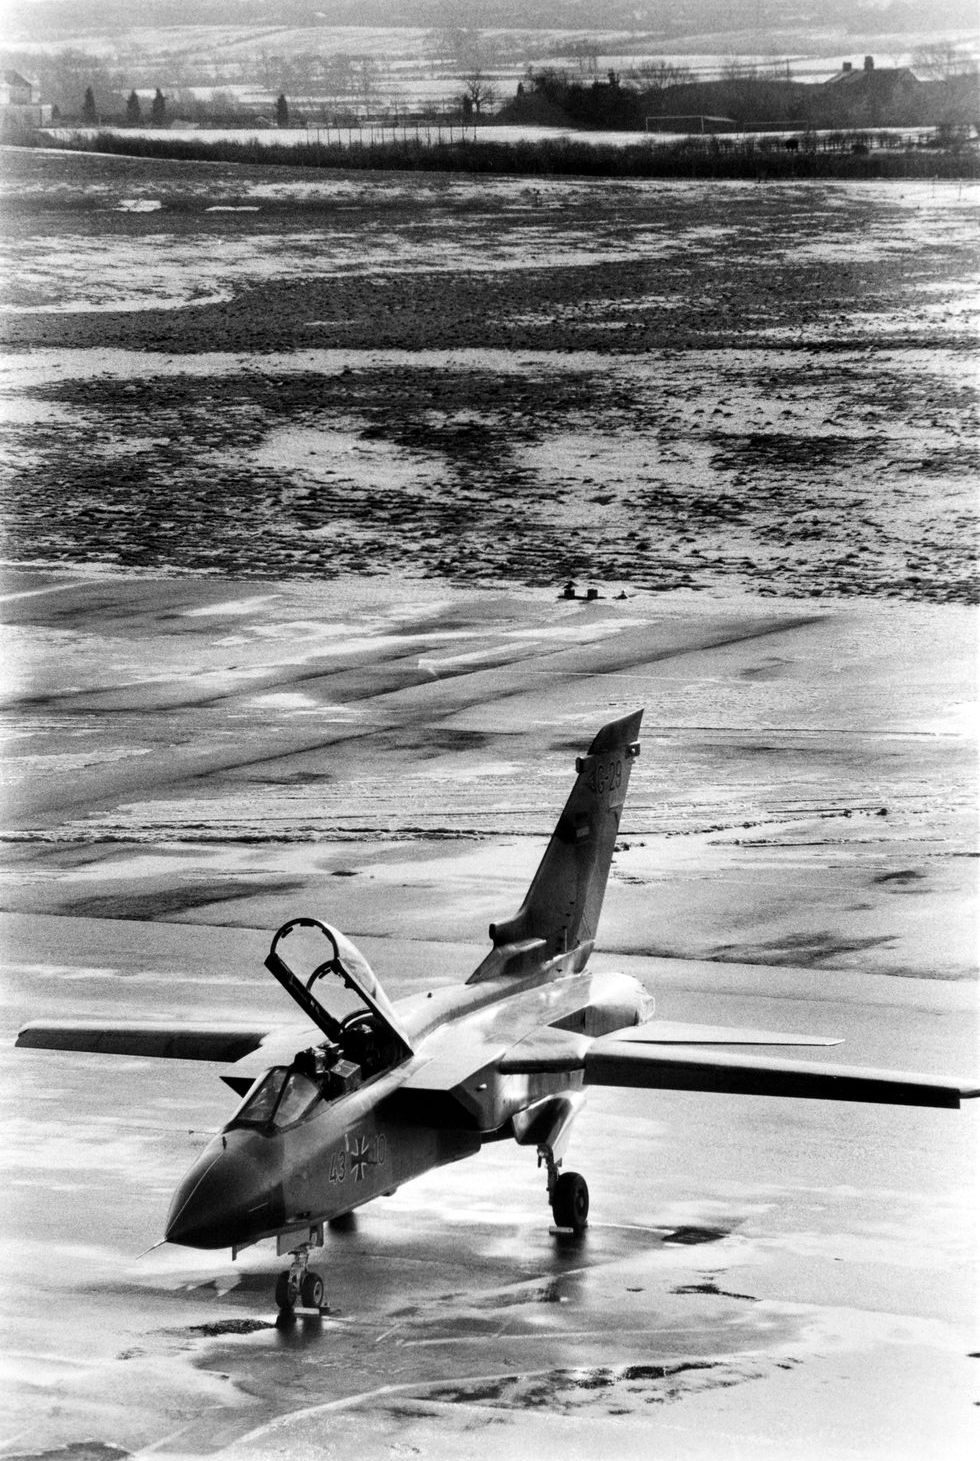Tornado: (14, 706, 980, 1309)
